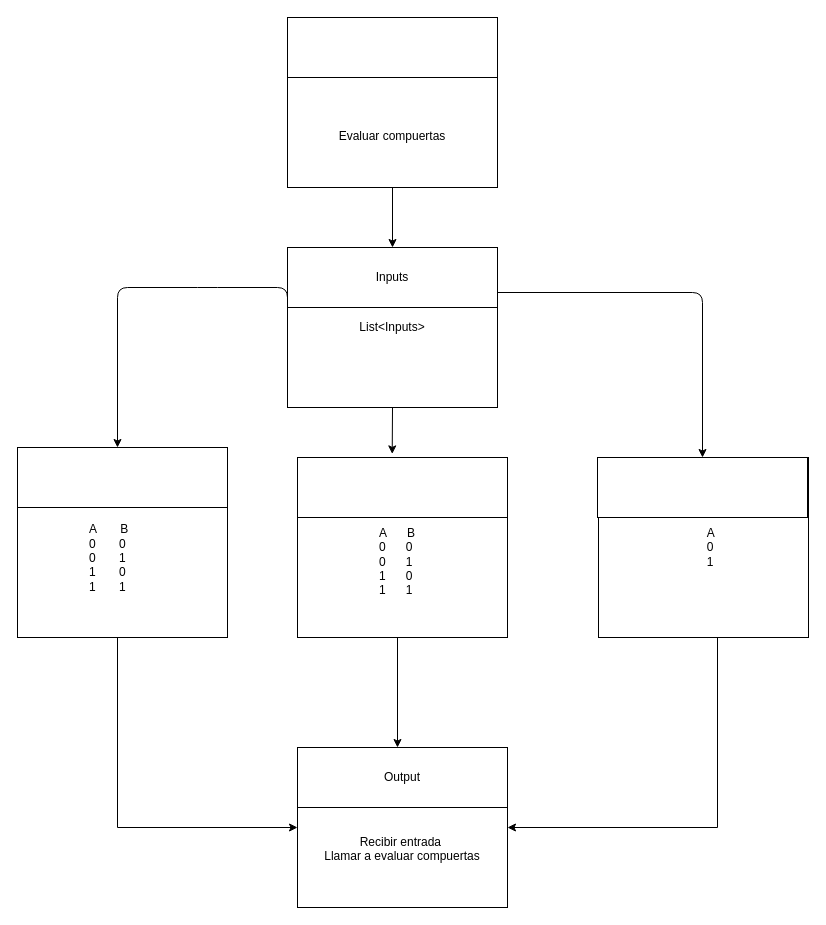
This 826x925 diagram has some shape labels left out. The centre of each missing label's shape, as x and y in pixels:
"AND" belongs at (x=122, y=477).
"ICompuertas" belongs at (x=392, y=47).
"NOT" belongs at (x=702, y=487).
"OR" belongs at (x=402, y=487).
